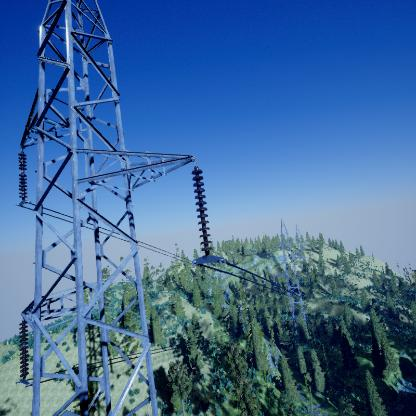insulator: (190, 167, 214, 256), (17, 319, 30, 382), (18, 152, 29, 204)
tower: (267, 219, 315, 338)
